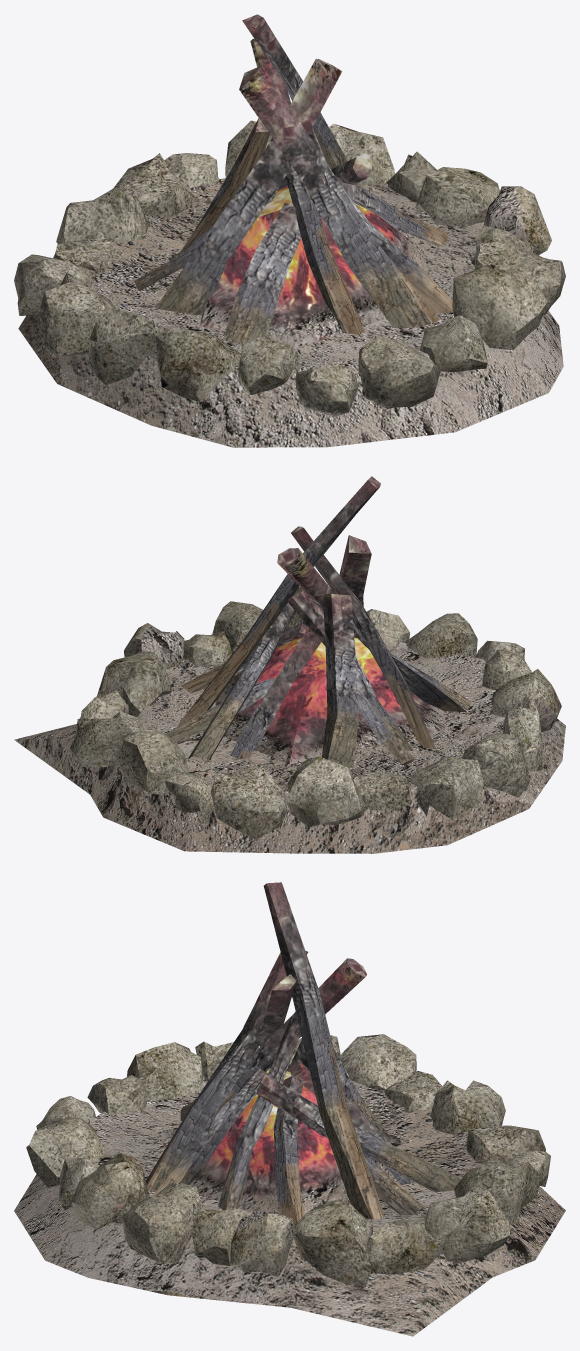
Rendered from campfire_light.fbx.
The picture shows the model from 3 angles, top to bottom: view 1: azimuth 30°, elevation 25°; view 2: azimuth 150°, elevation 25°; view 3: azimuth 270°, elevation 25°; orthographic projection. The views are drawn at different scales.
Parts seen in each view (by area): view 1: campfire01; view 2: campfire01; view 3: campfire01.
Part boxes in pixels (x1,y1,x2,y2): campfire01: [14, 14, 565, 447]; campfire01: [14, 476, 565, 853]; campfire01: [14, 882, 565, 1336].
Bounding box in the file's own units: 100 × 58.95 × 97.36.
1 material, 1 textured.
